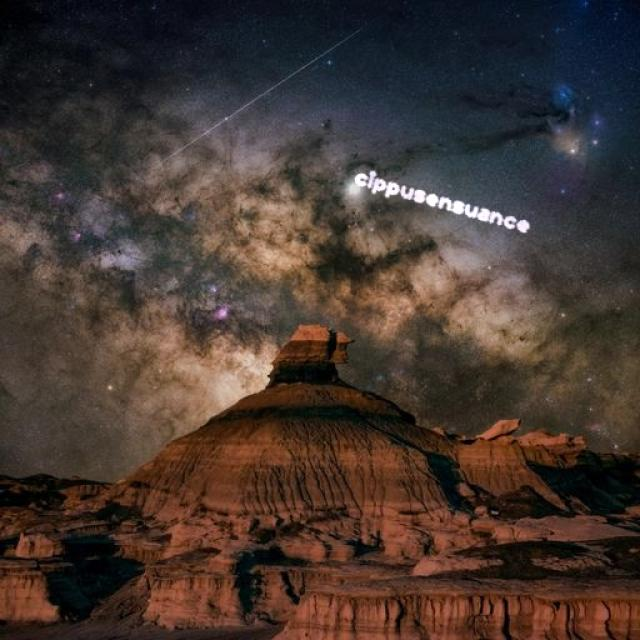watermark: (347, 168, 543, 236)
